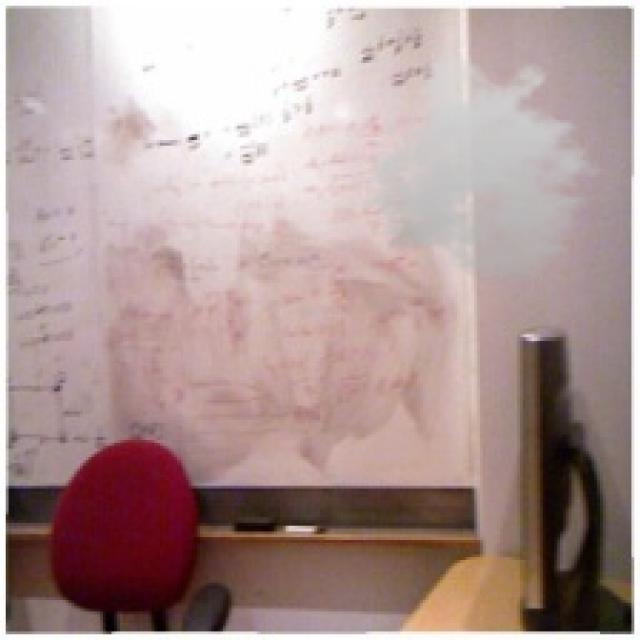smoke: (360, 54, 620, 283)
